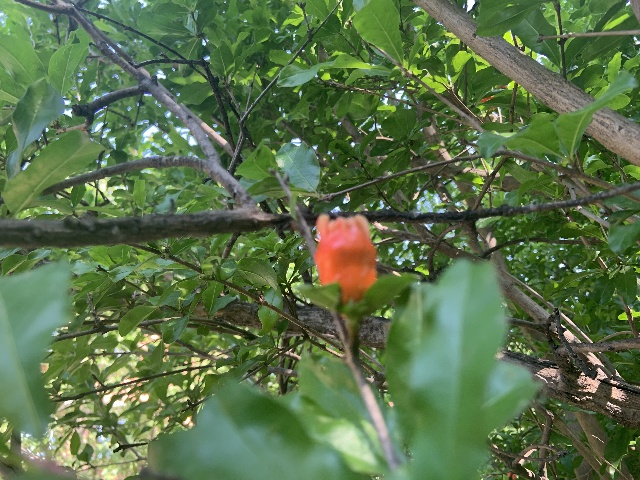flower: (313, 213, 378, 303)
